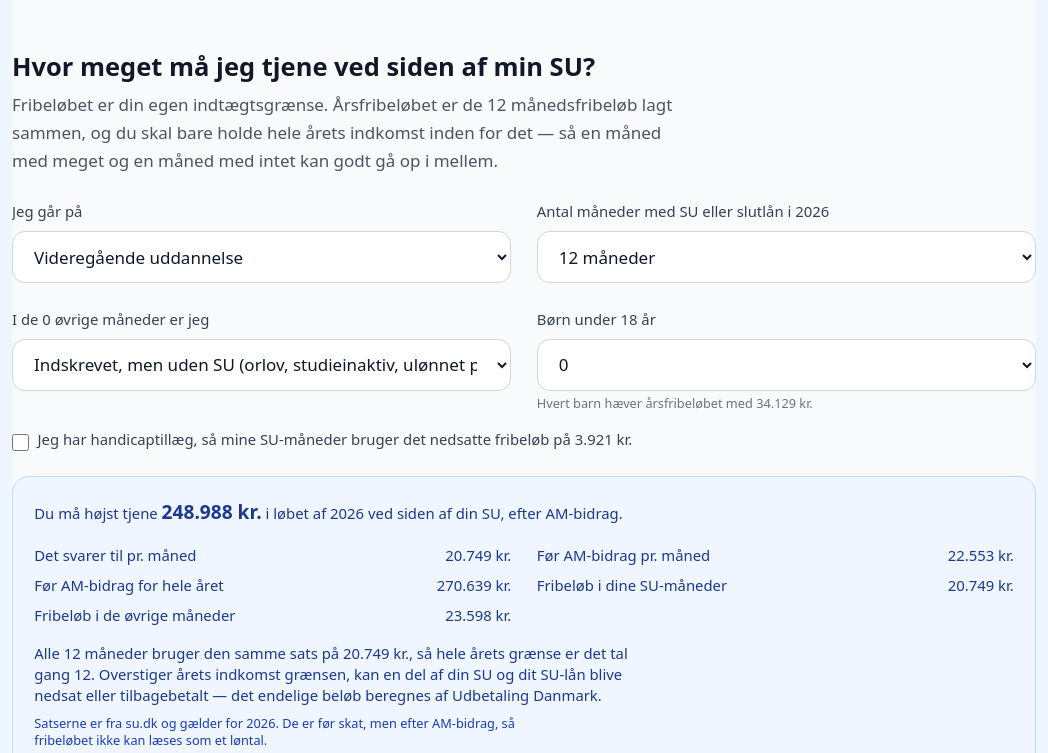
Test case: SU-indtægtsgrænsen: valgene ændrer svaret › færre SU-måneder hæver grænsen, fordi de øvrige måneder bruger en højere sats
Select "9 måneder" in the dropdown labelled "Antal måneder med SU eller slutlån i 2026" at (786, 257), box [537,231,1036,283]
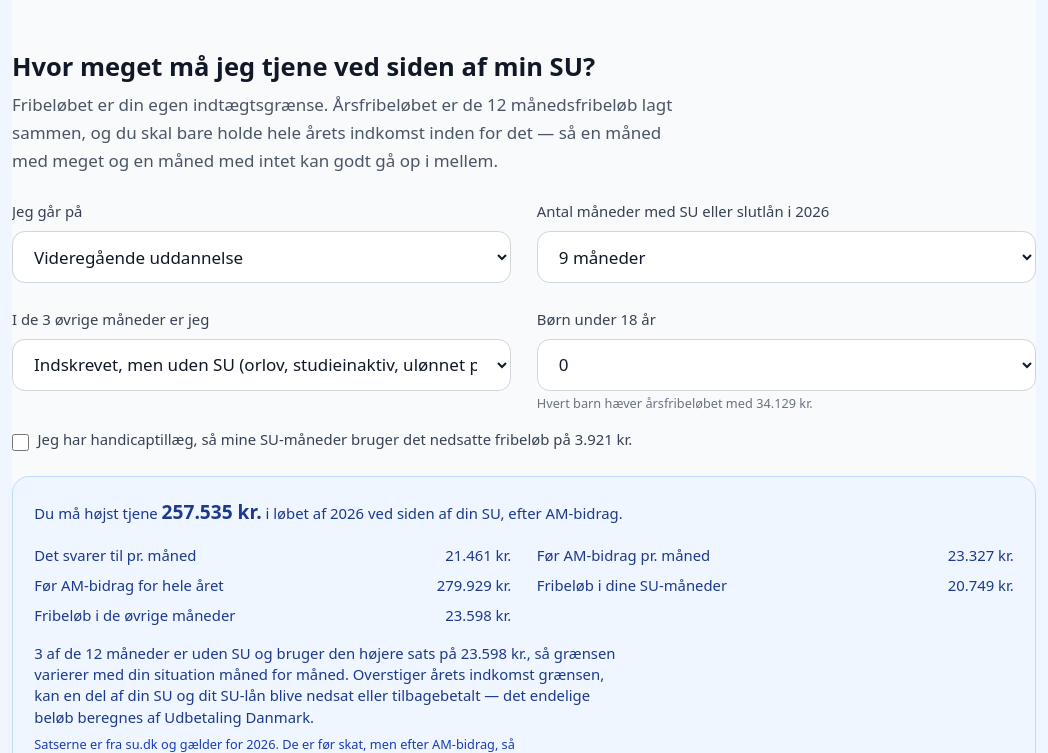
Result: the text "3 af de 12 måneder er uden SU" is shown at [34,643,616,684]
